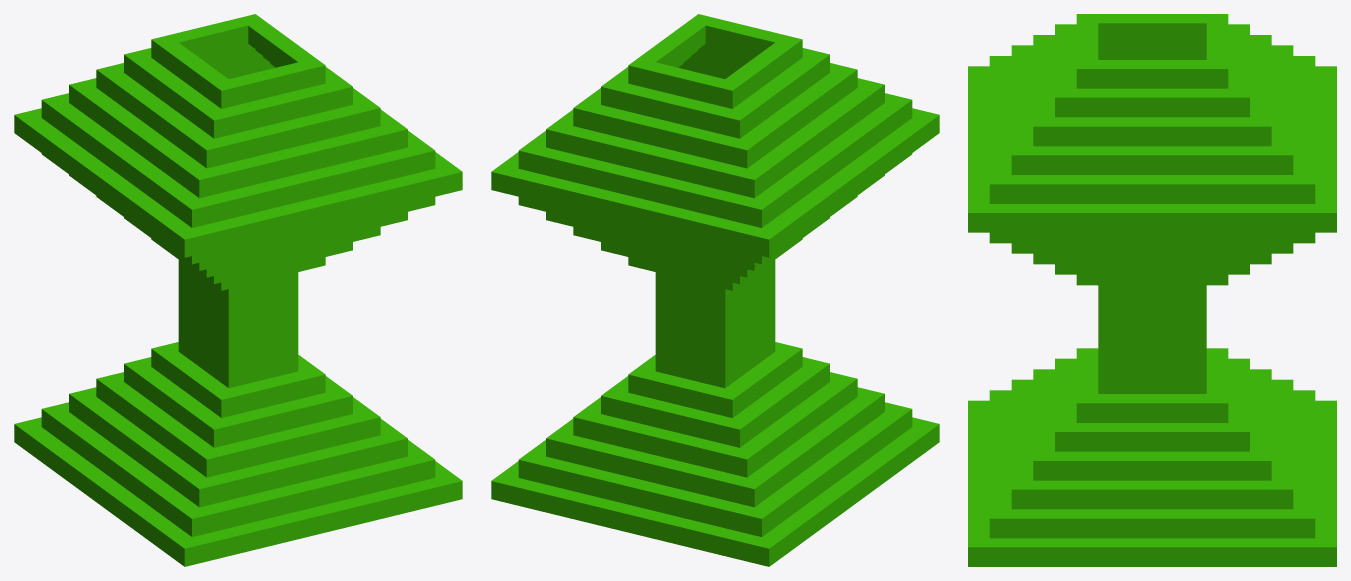
3 views of the same model, side by side, from view 1: azimuth 30°, elevation 25°; view 2: azimuth 150°, elevation 25°; view 3: azimuth 270°, elevation 25° (orthographic). The views are drawn at different scales.
Parts seen in each view (by area): view 1: Null_9, Null_14, Null_15, Null_13, Null_12, Null_11, Null_10, Null_6, Null_7, Null_5, Null_8, Null_4 (+4 smaller); view 2: Null_9, Null_14, Null_15, Null_13, Null_12, Null_11, Null_10, Null_6, Null_7, Null_5, Null_8, Null_4 (+4 smaller); view 3: Null_1, Null_2, Null, Null_3, Null_4, Null_6, Null_5, Null_10, Null_11, Null_9, Null_7, Null_8 (+4 smaller).
Part boxes in pixels (left/top/right/bottom): Null_9: left=169, top=31, right=306, bottom=541; Null_14: left=32, top=95, right=219, bottom=562; Null_15: left=14, top=110, right=201, bottom=566; Null_13: left=59, top=80, right=236, bottom=558; Null_12: left=86, top=65, right=254, bottom=553; Null_11: left=114, top=50, right=271, bottom=549; Null_10: left=141, top=35, right=288, bottom=545; Null_6: left=210, top=18, right=358, bottom=528; Null_7: left=203, top=22, right=340, bottom=532; Null_5: left=218, top=14, right=375, bottom=524; Null_8: left=186, top=26, right=323, bottom=537; Null_4: left=225, top=49, right=393, bottom=520; Null_9: left=647, top=31, right=784, bottom=541; Null_14: left=734, top=95, right=921, bottom=562; Null_15: left=752, top=110, right=939, bottom=566; Null_13: left=717, top=80, right=894, bottom=558; Null_12: left=699, top=65, right=867, bottom=553; Null_11: left=682, top=50, right=839, bottom=549; Null_10: left=665, top=35, right=812, bottom=545; Null_6: left=595, top=18, right=743, bottom=528; Null_7: left=613, top=22, right=750, bottom=532; Null_5: left=578, top=14, right=735, bottom=524; Null_8: left=630, top=26, right=767, bottom=537; Null_4: left=560, top=49, right=728, bottom=520; Null_1: left=968, top=175, right=1336, bottom=538; Null_2: left=968, top=146, right=1336, bottom=528; Null: left=968, top=204, right=1336, bottom=566; Null_3: left=968, top=117, right=1336, bottom=519; Null_4: left=968, top=88, right=1336, bottom=510; Null_6: left=968, top=50, right=1336, bottom=492; Null_5: left=968, top=60, right=1336, bottom=501; Null_10: left=968, top=14, right=1336, bottom=455; Null_11: left=968, top=24, right=1336, bottom=446; Null_9: left=968, top=23, right=1336, bottom=464; Null_7: left=968, top=41, right=1336, bottom=483; Null_8: left=968, top=32, right=1336, bottom=473.
Bounding box in the file's own units: 678 × 975 × 721.
